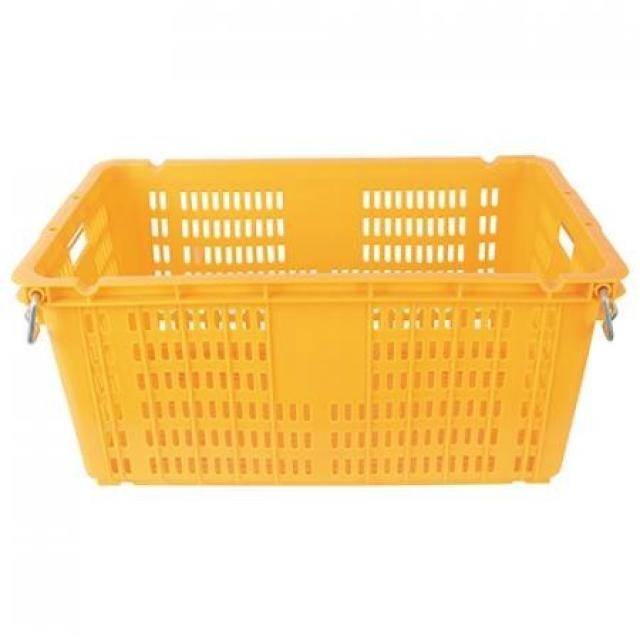basket: (13, 156, 627, 487)
